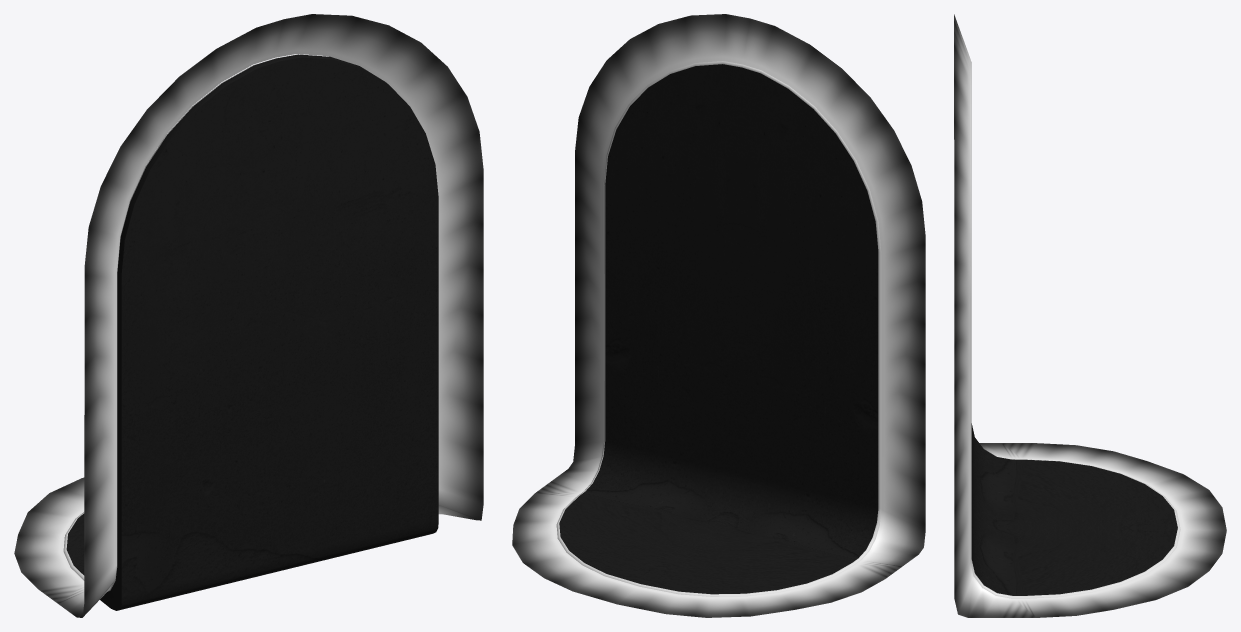
The model's file is InfoWall.fbx.
3 views of the same model, side by side, from view 1: azimuth 30°, elevation 25°; view 2: azimuth 150°, elevation 25°; view 3: azimuth 270°, elevation 25° (orthographic). The views are drawn at different scales.
Parts seen in each view (by area): view 1: InfoWall, InfoWallGlow; view 2: InfoWall, InfoWallGlow; view 3: InfoWall, InfoWallGlow.
Boxes of the visible parts, box(x1,y1,x2,y2) form: InfoWall: box(63, 54, 438, 610); InfoWallGlow: box(14, 14, 483, 617); InfoWall: box(556, 61, 881, 596); InfoWallGlow: box(512, 14, 925, 617); InfoWall: box(970, 60, 1180, 598); InfoWallGlow: box(954, 14, 1226, 617).
Bounding box in the file's own units: 1.38 × 1.85 × 0.9073.
